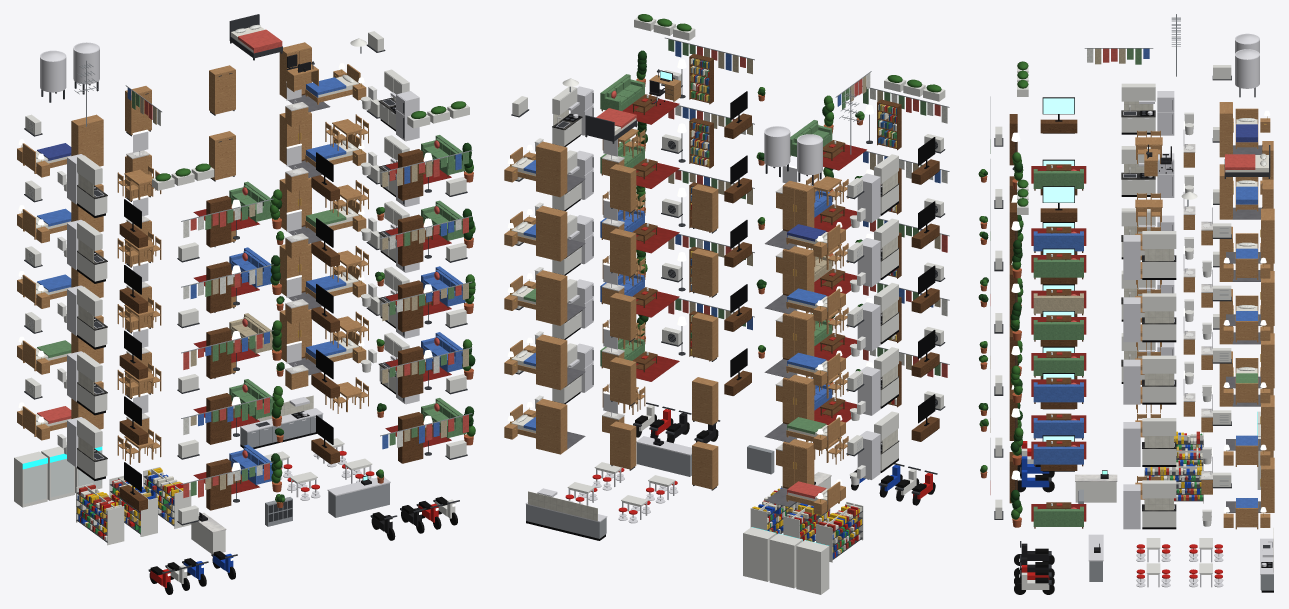
File: i_apt_block_6f.gltf
3 renders of one model, left to right at view 1: azimuth 30°, elevation 25°; view 2: azimuth 150°, elevation 25°; view 3: azimuth 270°, elevation 25°, orthographic. The views are drawn at different scales.
Visible parts, largest first — view 1: I_apt_block_6f; view 2: I_apt_block_6f; view 3: I_apt_block_6f.
Boxes of the visible parts, x1=… form: I_apt_block_6f: x1=14, y1=14, x2=475, y2=594; I_apt_block_6f: x1=504, y1=14, x2=949, y2=594; I_apt_block_6f: x1=978, y1=14, x2=1274, y2=594.
Bounding box in the file's own units: 16.76 × 21.6 × 12.92.
Materials: 43 (14 with a texture image).
